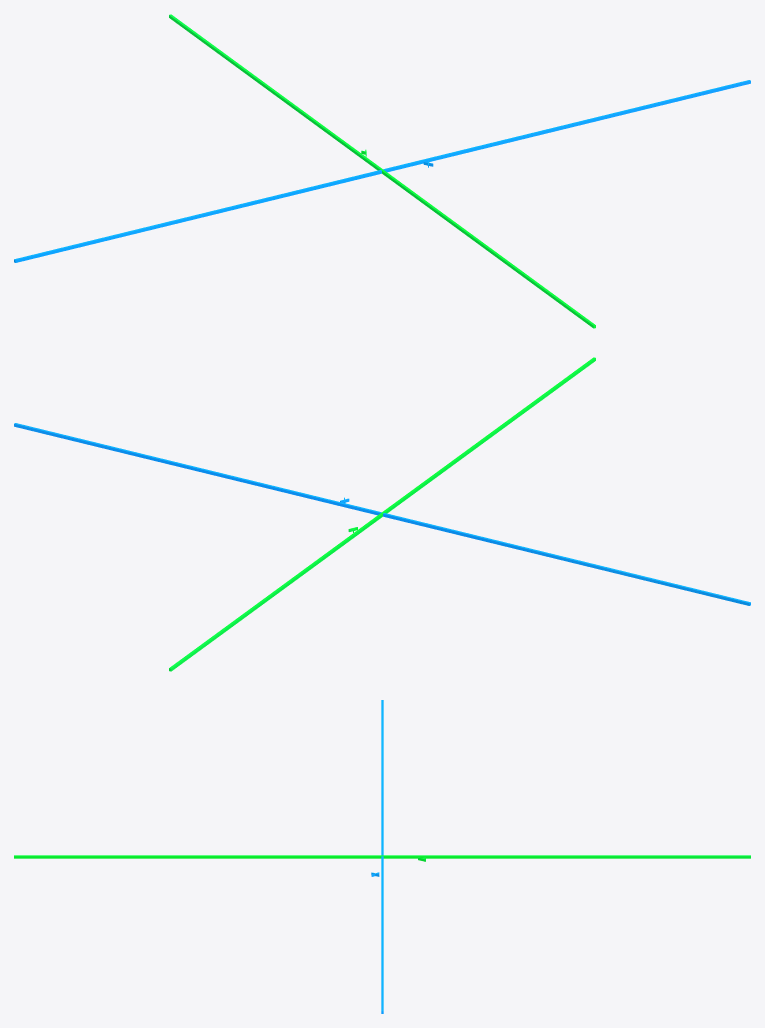
File: AxisLinesGlow.glb
3 views of the same model, one above another, from view 1: azimuth 30°, elevation 25°; view 2: azimuth 150°, elevation 25°; view 3: azimuth 270°, elevation 25° (orthographic). The views are drawn at different scales.
Visible parts, largest first — view 1: AxisLinesGlow; view 2: AxisLinesGlow; view 3: AxisLinesGlow.
Part boxes in pixels (x1,y1,x2,y2): AxisLinesGlow: (14, 14, 750, 328); AxisLinesGlow: (14, 357, 750, 671); AxisLinesGlow: (14, 700, 750, 1013).
Size of the model in its own units: 16 by 0.0603 by 16.
1 material, 1 textured.
